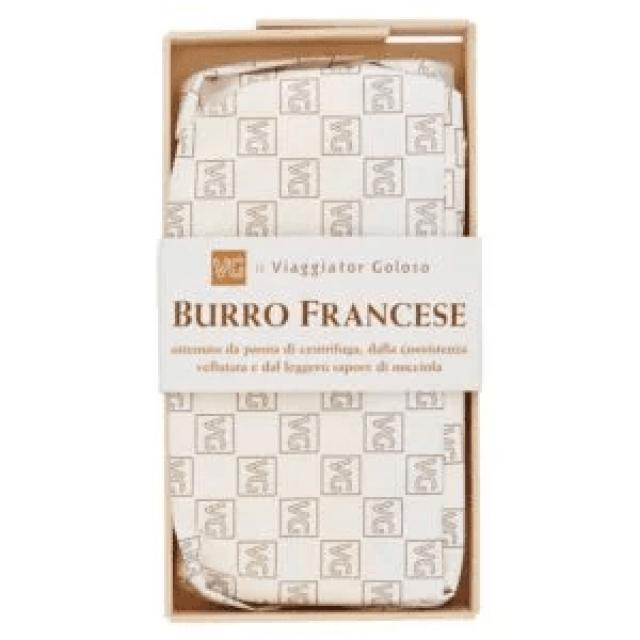Cheese: (158, 28, 484, 617)
